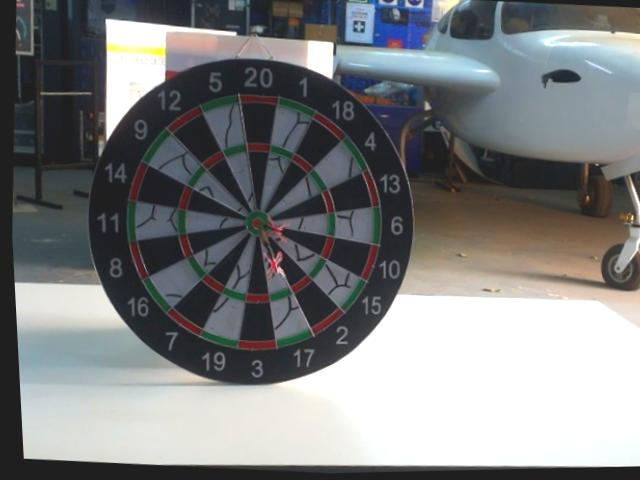bullseye: (250, 214, 269, 234)
